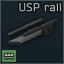HK USP rail adapter: (0, 0, 64, 64)
